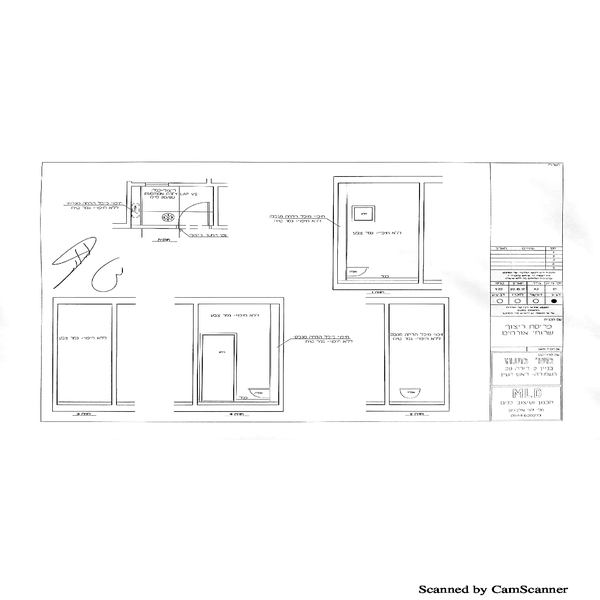room: (182, 296, 287, 411), (330, 169, 428, 290), (49, 293, 125, 411), (385, 294, 454, 414)
